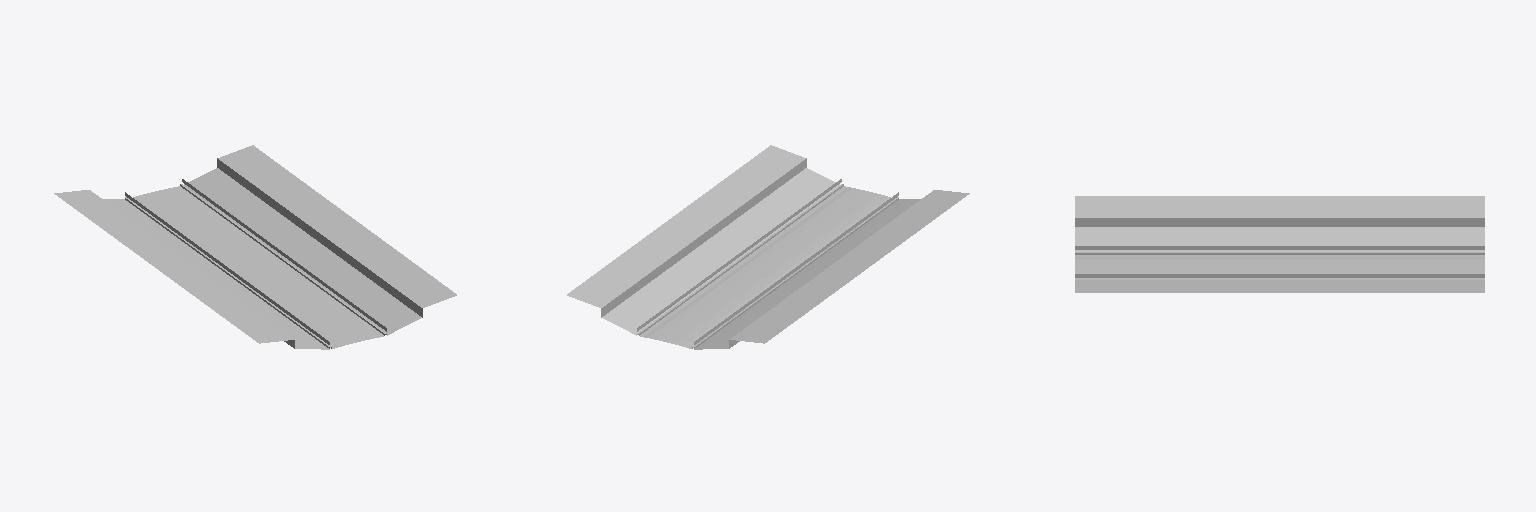
Rendered from road.obj.
The picture shows the model from 3 angles: view 1: azimuth 30°, elevation 25°; view 2: azimuth 150°, elevation 25°; view 3: azimuth 270°, elevation 25°; orthographic projection.
Parts seen in each view (by area): view 1: Road_Plane.002; view 2: Road_Plane.002; view 3: Road_Plane.002.
Boxes of the visible parts, x1=… form: Road_Plane.002: x1=54, y1=145, x2=456, y2=349; Road_Plane.002: x1=567, y1=145, x2=969, y2=349; Road_Plane.002: x1=1075, y1=196, x2=1484, y2=292.
Size of the model in its own units: 11.2 by 1.25 by 20.